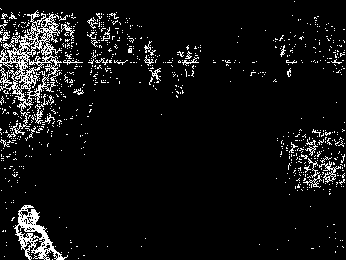person: (16, 203, 68, 260)
